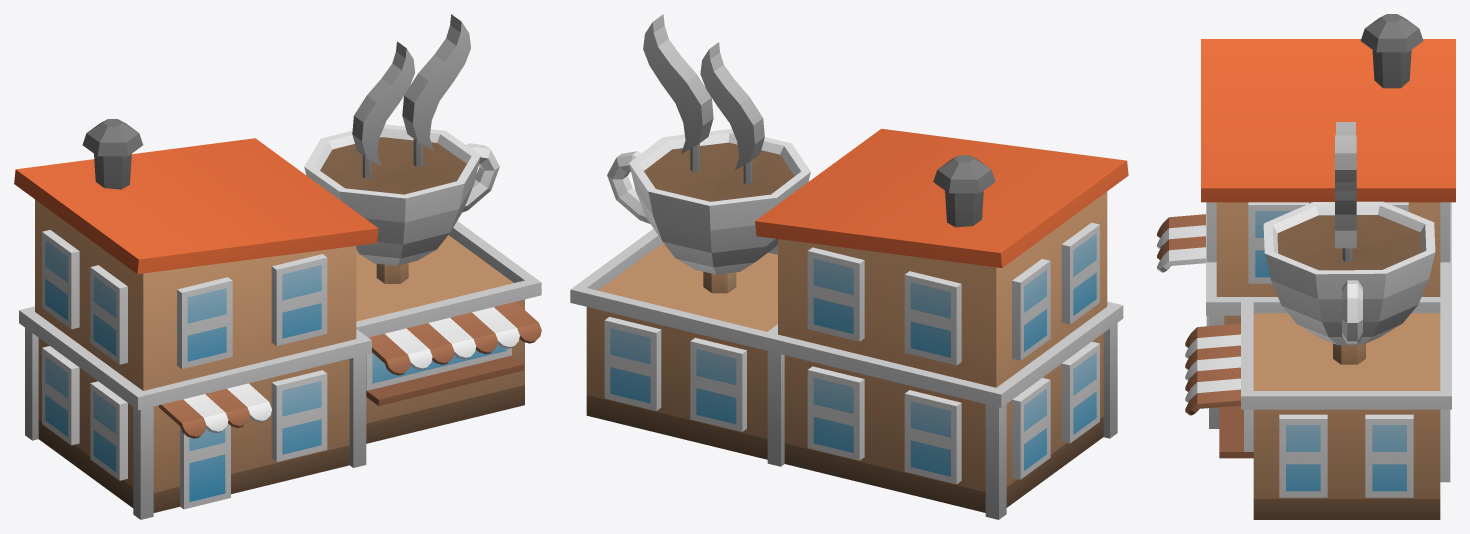
File: coffee house.fbx
The picture shows the model from 3 angles, left to right: view 1: azimuth 30°, elevation 25°; view 2: azimuth 150°, elevation 25°; view 3: azimuth 270°, elevation 25°; orthographic projection. The views are drawn at different scales.
Visible parts, largest first — view 1: coffee_house; view 2: coffee_house; view 3: coffee_house.
Boxes of the visible parts, box(x1,y1,x2,y2) form: coffee_house: box(14, 14, 541, 519); coffee_house: box(570, 14, 1128, 519); coffee_house: box(1157, 14, 1455, 519).
Size of the model in its own units: 929 by 738 by 537.
Materials: 1 (1 with a texture image).
